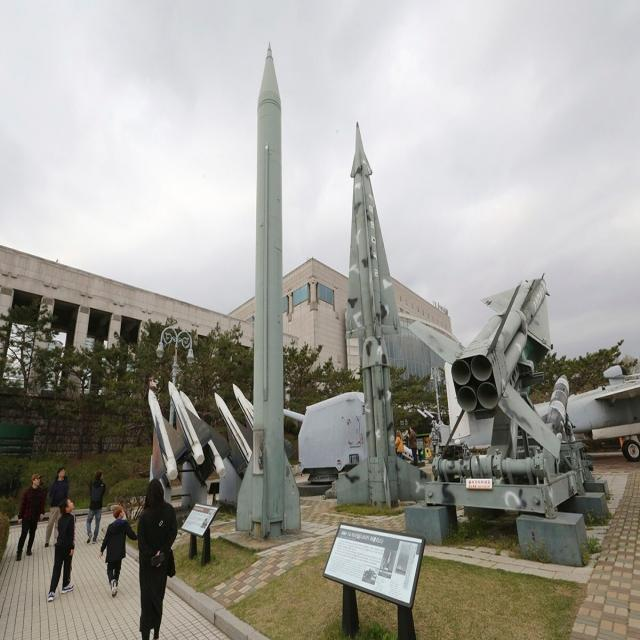missile: (230, 40, 316, 546), (324, 120, 430, 512), (410, 270, 570, 476), (144, 386, 188, 487), (162, 379, 213, 466)
